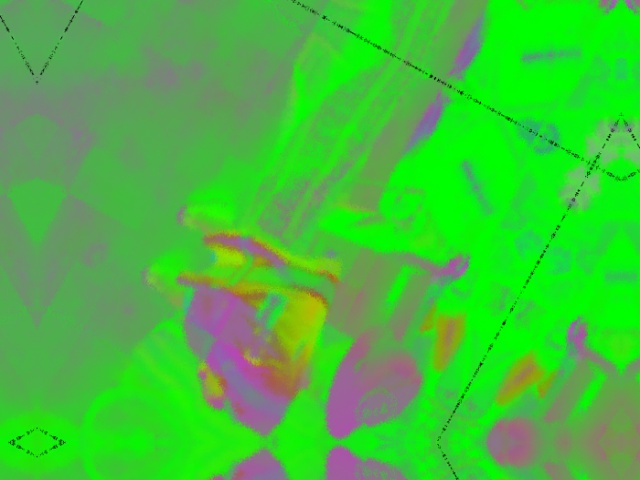one: (351, 382, 401, 435)
